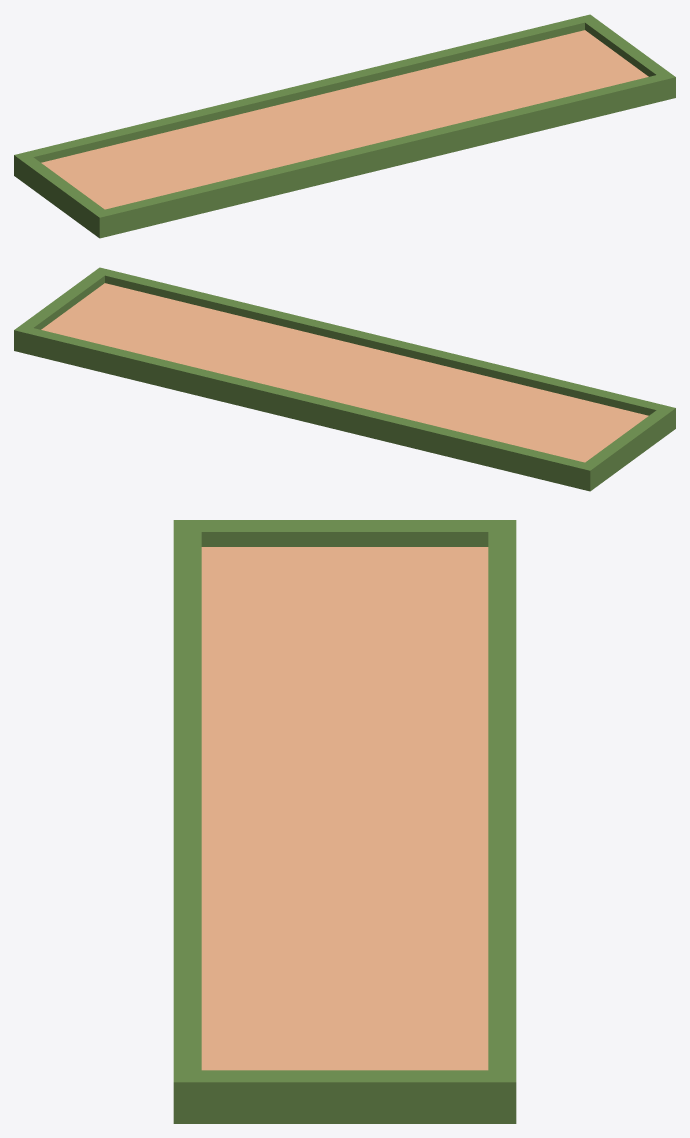
Rendered from papan perbandingan.fbx.
3 views of the same model, one above another, from view 1: azimuth 30°, elevation 25°; view 2: azimuth 150°, elevation 25°; view 3: azimuth 270°, elevation 25° (orthographic). The views are drawn at different scales.
Parts seen in each view (by area): view 1: papan perbandingan; view 2: papan perbandingan; view 3: papan perbandingan.
Part boxes in pixels (x1,y1,x2,y2): papan perbandingan: (14,14,675,238); papan perbandingan: (14,267,675,491); papan perbandingan: (173,520,516,1123).
Size of the model in its own units: 22.96 by 0.7907 by 5.92.
